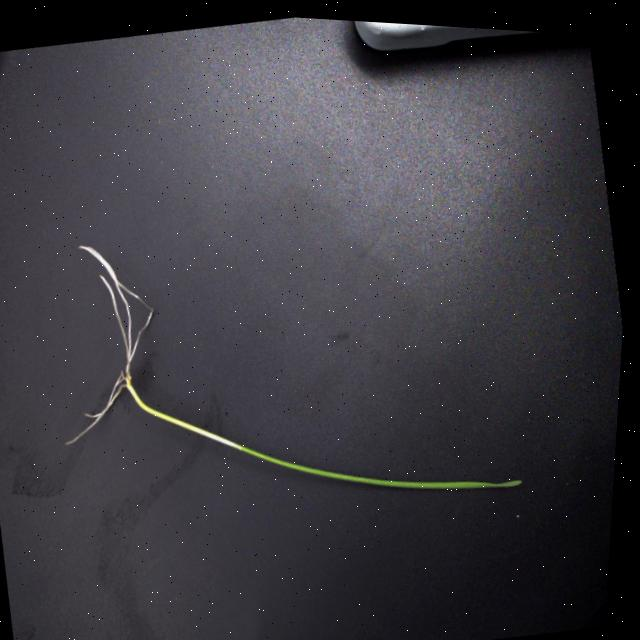leaf: (236, 437, 524, 497)
root: (62, 241, 154, 447)
steb: (125, 378, 237, 450)
